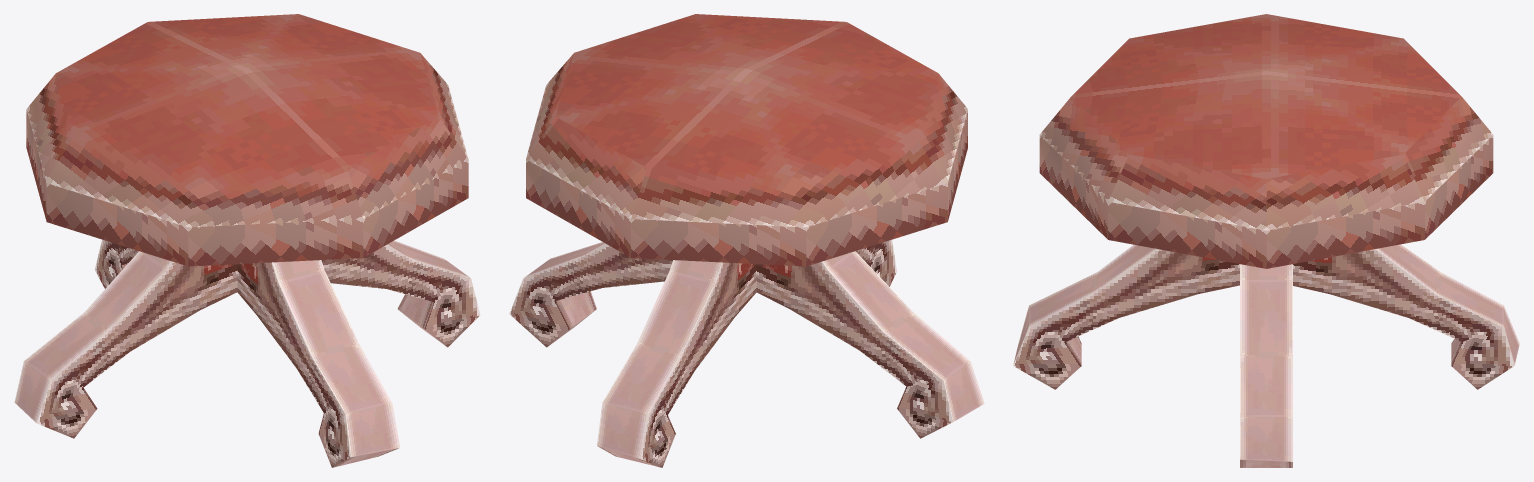
The model's file is isu33.glb.
3 renders of one model, left to right at view 1: azimuth 30°, elevation 25°; view 2: azimuth 150°, elevation 25°; view 3: azimuth 270°, elevation 25°, orthographic. The views are drawn at different scales.
Visible parts, largest first — view 1: isu33; view 2: isu33; view 3: isu33.
Part boxes in pixels (left/top/right/bottom): isu33: left=14, top=14, right=480, bottom=467; isu33: left=509, top=14, right=984, bottom=467; isu33: left=1013, top=14, right=1519, bottom=467.
Size of the model in its own units: 96 by 64 by 96.
Materials: 2 (2 with a texture image).
